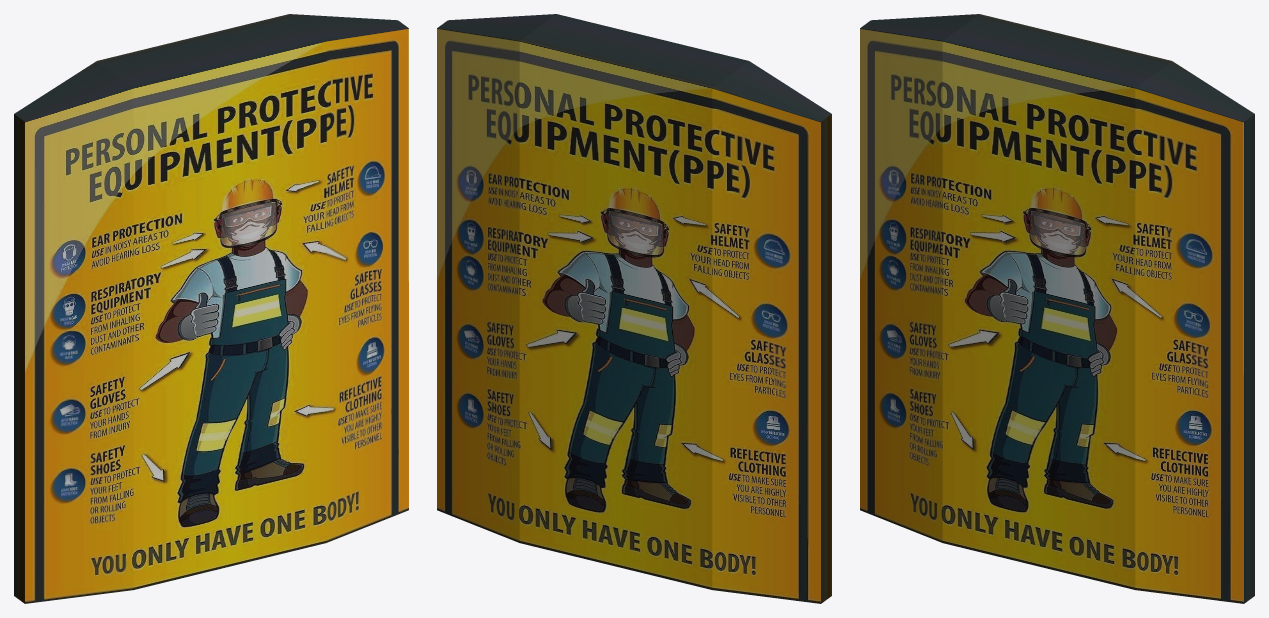
Rendered from PPE.fbx.
The picture shows the model from 3 angles, left to right: view 1: azimuth 30°, elevation 25°; view 2: azimuth 150°, elevation 25°; view 3: azimuth 330°, elevation 25°; orthographic projection.
Parts seen in each view (by area): view 1: Cube; view 2: Cube; view 3: Cube.
Boxes of the visible parts, left/top/right/bottom form: Cube: left=14, top=14, right=408, bottom=603; Cube: left=437, top=14, right=831, bottom=603; Cube: left=860, top=14, right=1254, bottom=603.
Bounding box in the file's own units: 200 × 250 × 33.25.
